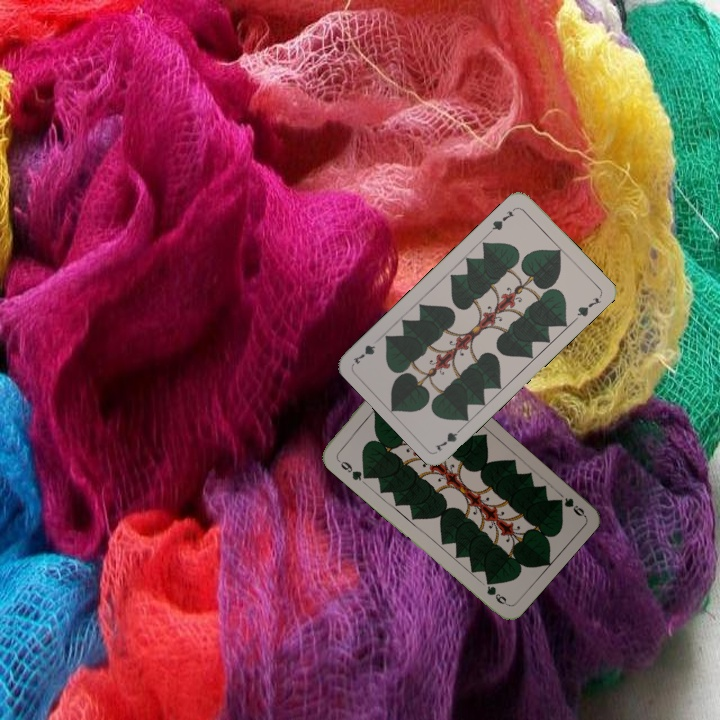G7: (431, 422, 467, 454), (486, 204, 519, 235)
G9: (333, 454, 368, 483), (553, 493, 587, 519)
